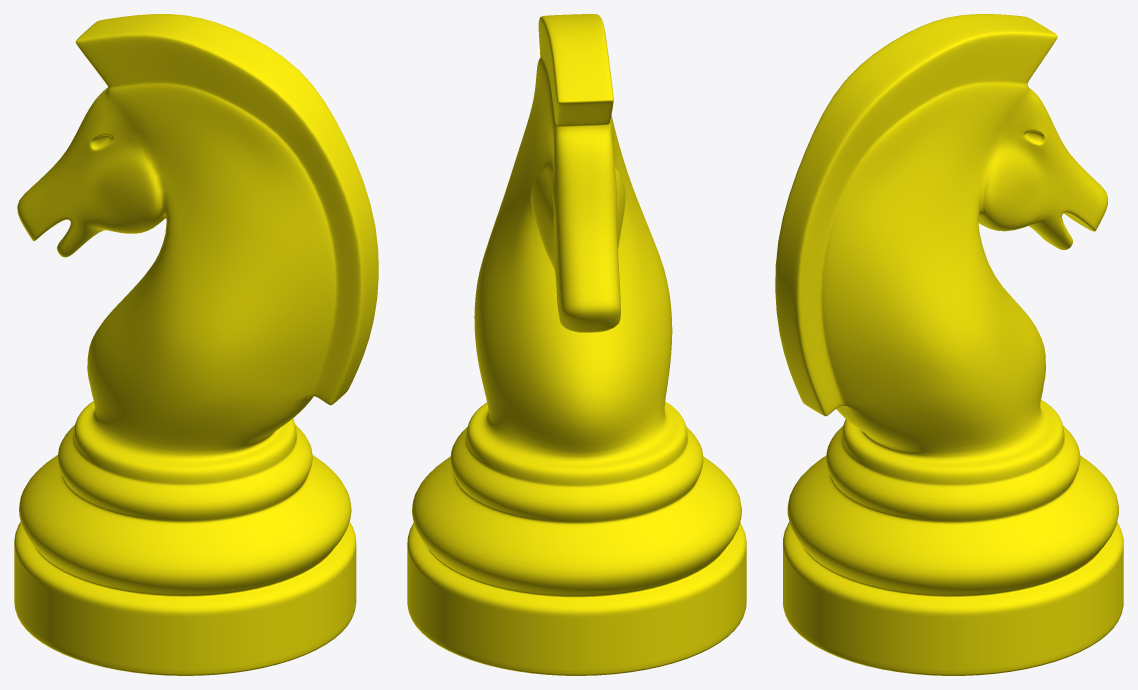
The model's file is yellow_horse.glb.
The picture shows the model from 3 angles, left to right: view 1: azimuth 30°, elevation 25°; view 2: azimuth 150°, elevation 25°; view 3: azimuth 270°, elevation 25°; orthographic projection.
Parts seen in each view (by area): view 1: High_Poly_White_Knight_001__2_; view 2: High_Poly_White_Knight_001__2_; view 3: High_Poly_White_Knight_001__2_.
Boxes of the visible parts, <box> form: High_Poly_White_Knight_001__2_: <box>14,14,378,675</box>; High_Poly_White_Knight_001__2_: <box>407,14,746,675</box>; High_Poly_White_Knight_001__2_: <box>775,14,1123,675</box>.
Bounding box in the file's own units: 0.3479 × 0.6484 × 0.3556.
